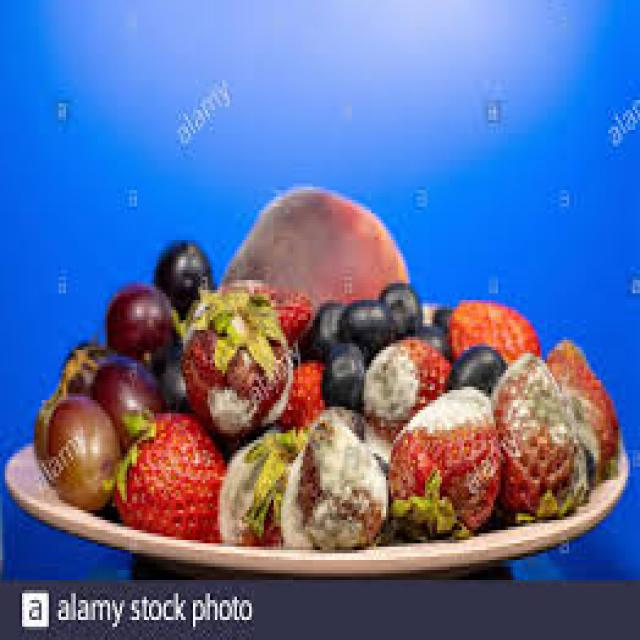organic waste: (215, 183, 408, 300), (171, 274, 288, 434), (386, 383, 501, 537), (100, 403, 225, 540), (278, 406, 386, 546), (488, 347, 576, 513), (540, 334, 620, 474), (212, 420, 303, 543), (359, 334, 447, 434), (46, 397, 118, 503), (93, 357, 166, 443), (102, 284, 180, 364), (447, 300, 537, 367), (215, 277, 310, 340), (154, 236, 210, 316), (30, 393, 68, 487), (274, 357, 320, 430), (442, 344, 503, 394), (337, 297, 391, 353), (157, 340, 196, 410), (376, 277, 418, 333), (320, 340, 359, 400), (61, 343, 108, 387), (303, 300, 342, 350), (366, 450, 391, 520), (410, 317, 447, 350), (335, 400, 364, 433), (574, 440, 591, 490), (432, 303, 452, 320)
